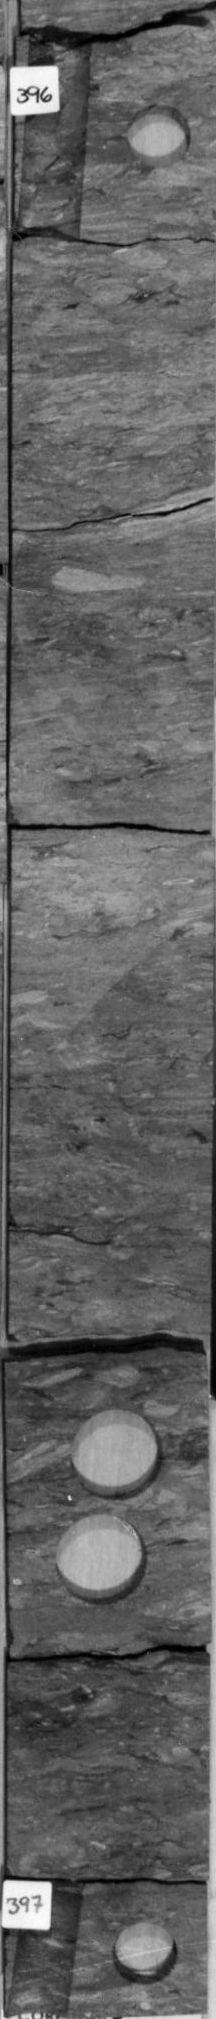hplug: (114, 100, 198, 175), (100, 1920, 186, 1987)
scal: (64, 1404, 167, 1507), (50, 1510, 150, 1608)
vplug: (17, 31, 96, 239), (6, 1883, 85, 2019)
